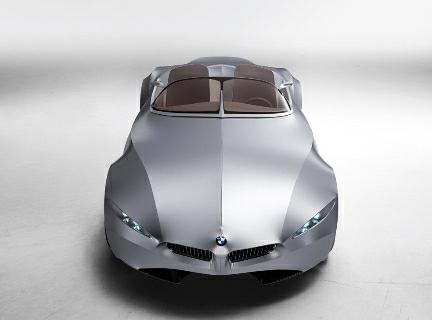宝马-GINA: (99, 52, 345, 287)
